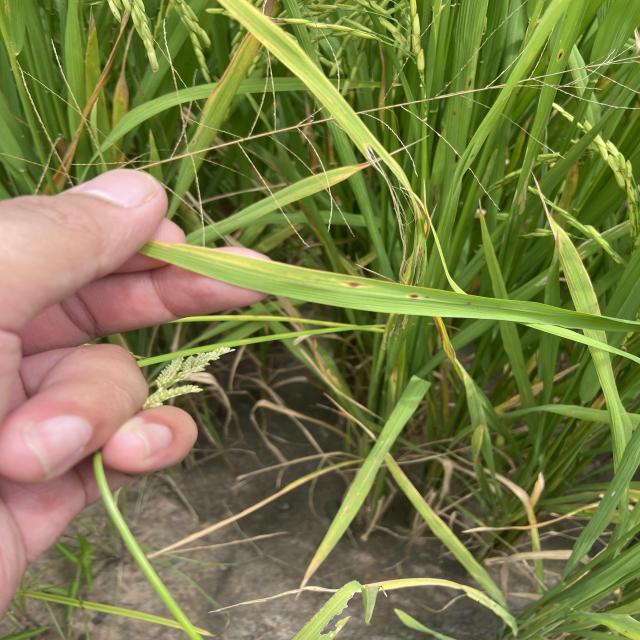Dao on: (340, 280, 368, 288), (406, 293, 423, 299)
